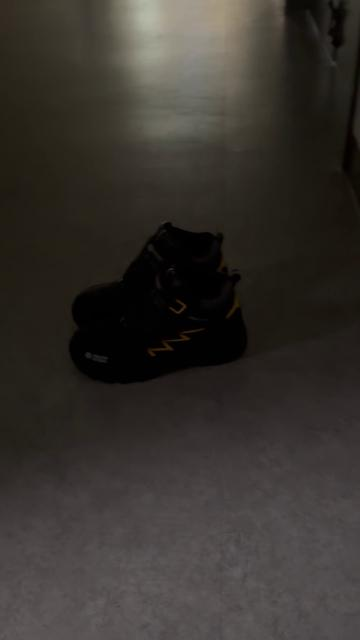shoe_worn: (68, 263, 250, 388), (71, 225, 226, 322)
